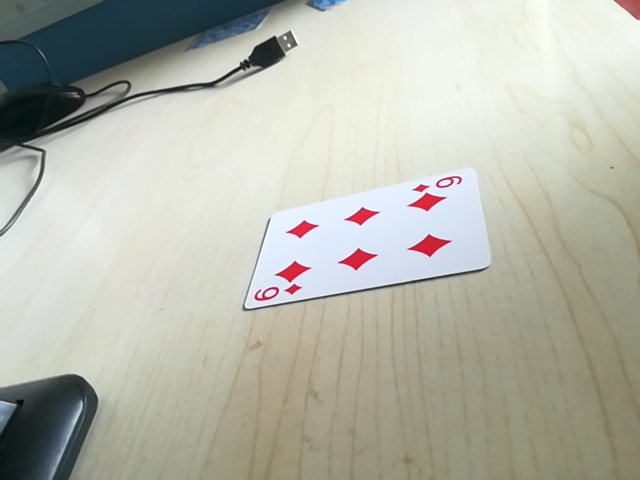fk 6: (415, 170, 469, 198), (247, 279, 304, 305)
